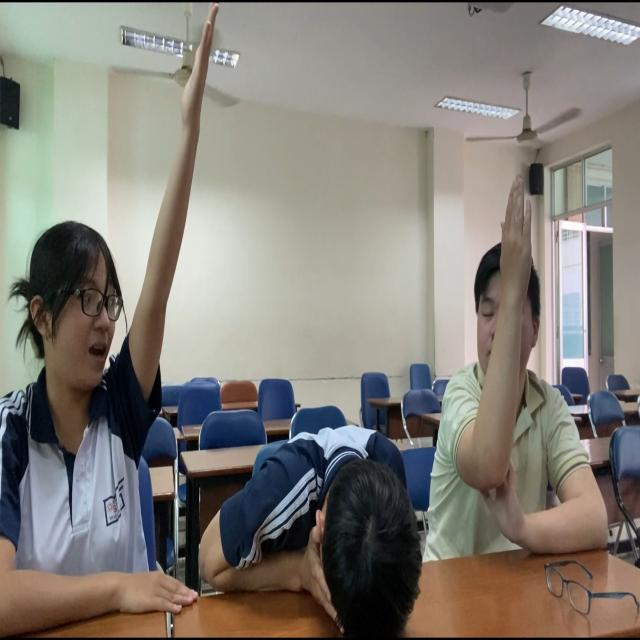raise_hand: (1, 1, 234, 640), (440, 171, 611, 569)
sleep: (205, 412, 429, 635)
